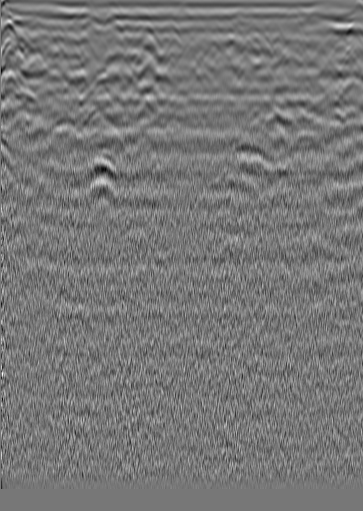가스: (84, 154, 123, 190)
상수: (330, 36, 350, 56)
오수: (28, 43, 48, 63)
우수: (204, 39, 224, 59)
